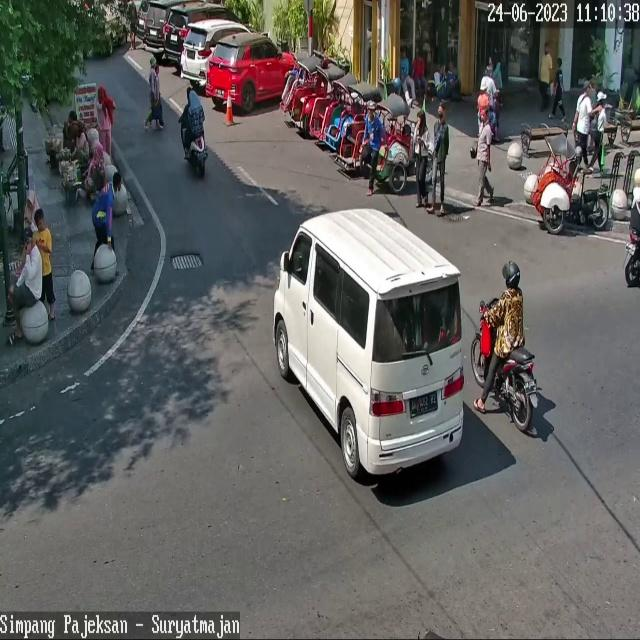bus: (470, 296, 543, 433), (186, 127, 208, 179), (622, 229, 640, 288)
motorcycle: (272, 207, 463, 478), (206, 33, 300, 112), (163, 4, 246, 64), (181, 21, 252, 88), (143, 0, 169, 53)
